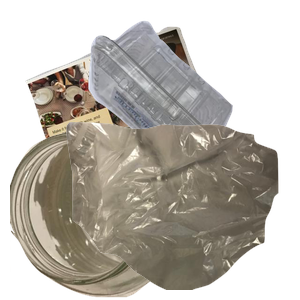glass: (10, 126, 216, 300)
paper: (23, 24, 232, 199)
plastic: (86, 18, 300, 171)
trash: (64, 120, 300, 300)
